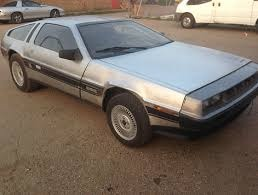Dent: (104, 70, 154, 100), (21, 44, 40, 62)
